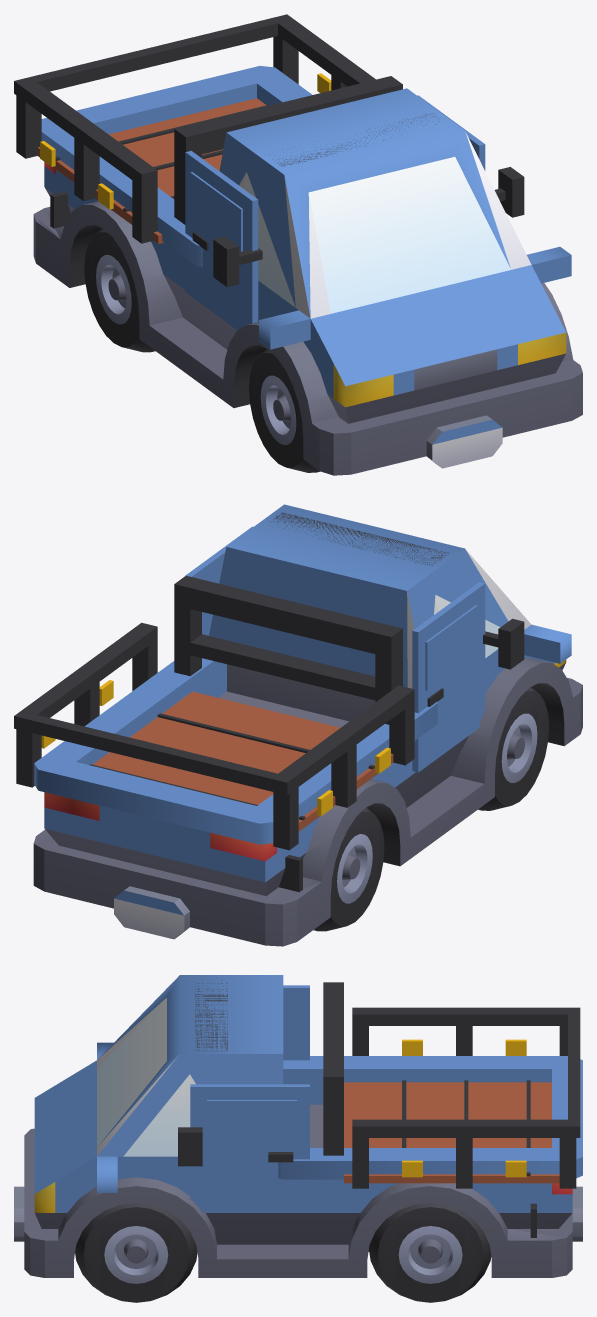
Rendered from flatbed.glb.
3 renders of one model, top to bottom at view 1: azimuth 30°, elevation 25°; view 2: azimuth 150°, elevation 25°; view 3: azimuth 270°, elevation 25°, orthographic. The views are drawn at different scales.
Visible parts, largest first — view 1: body, bumper_front, door_right, wheel-back-right, wheel-front-right, mirror_right, mirror_left; view 2: body, bumper_rear, door_right, wheel-front-right, wheel-back-right, mirror_right, door_left; view 3: body, door_left, wheel-front-left, wheel-back-left, bumper_front, door_right, bumper_rear, mirror_left.
Boxes of the visible parts, x1,y1,x2,y2 form: body: (14,14,573,470); bumper_front: (312,353,582,475); door_right: (185,150,258,330); wheel-back-right: (84,228,155,352); wheel-front-right: (249,349,320,472); mirror_right: (213,236,262,287); mirror_left: (494,167,524,217); body: (14,504,580,941); bumper_rear: (33,837,320,946); door_right: (412,582,485,772); wheel-front-right: (478,687,549,810); wheel-back-right: (313,807,384,931); mirror_right: (483,618,524,669); door_left: (185,526,252,635); body: (34,975,582,1277); door_left: (190,1084,309,1212); wheel-front-left: (75,1203,197,1302); wheel-back-left: (369,1203,491,1302); bumper_front: (14,1128,58,1277); door_right: (283,985,309,1060); bumper_rear: (510,1186,582,1277); mirror_left: (178,1127,202,1166).
Bounding box in the file's own units: 1.5 × 1.3 × 2.75.
1 material, 1 textured.
